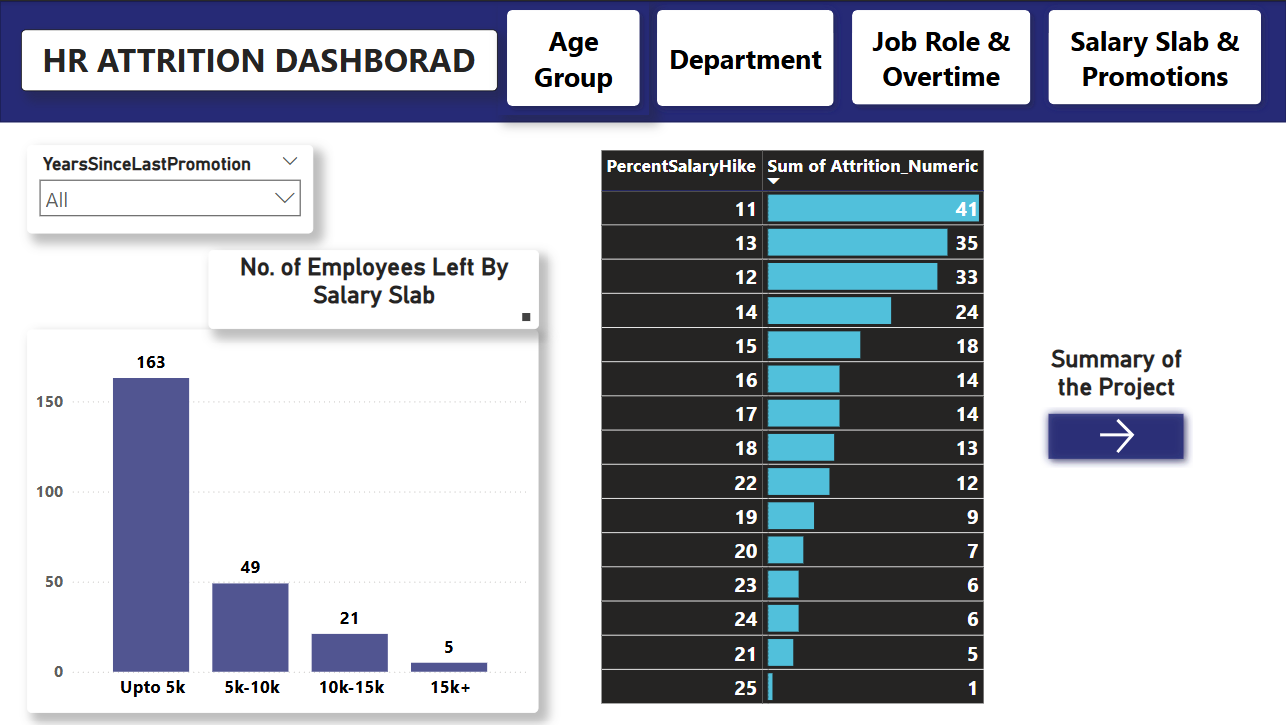

The dashboard page shown, as its layout file describes it:
{"tool":"powerbi","page":{"name":"Salary Slab & Promotions","canvas":[1280,720],"ordinal":3},"visuals":[{"type":"group","id":"g1","title":"Group 1","box":[0,0,1279.4,120.6],"z":0},{"type":"shape","box":[0,0,1279.4,120.6],"z":0,"group":"g1"},{"type":"textbox","title":"HR ATTRITION DASHBOARD","box":[21.2,28.9,473.7,61.6],"z":1000,"group":"g1"},{"type":"clusteredColumnChart","fields":{"Y":["Sum(HR_Attrition.Attrition_Numeric)"],"Category":["HR_Attrition.SalarySlab"]},"box":[27.3,327.1,508.8,381.6],"z":1000},{"type":"actionButton","title":"Age Group","box":[494.9,0,150.2,113.6],"z":2000,"group":"g1"},{"type":"tableEx","fields":{"Values":["HR_Attrition.PercentSalaryHike","Sum(HR_Attrition.Attrition_Numeric)"]},"box":[592.1,143.8,396.7,564.8],"z":2000},{"type":"actionButton","title":"Department & Job Role","box":[645.1,0,193.8,113.6],"z":3000,"group":"g1"},{"type":"slicer","title":"Select the Year","fields":{"Values":["HR_Attrition.YearsSinceLastPromotion"]},"box":[27.3,143.8,284.7,87.8],"z":3000},{"type":"actionButton","title":"Department & Job Role","box":[838.9,0,195.3,112.1],"z":4000,"group":"g1"},{"type":"textbox","title":"No. of Employees Left By Salary Slab","box":[206.8,247.9,328.4,78.9],"z":4000},{"type":"actionButton","title":"Department & Job Role","box":[1034.2,0,229.2,111.7],"z":5000,"group":"g1"},{"type":"actionButton","title":"Summary of the Project","box":[1034.2,342.2,152.9,122.7],"z":5000}]}

Visuals, with their boxes in screenshot pixels (x1, y1, x2, y2), scaled from the page's 1280x720 canvas onto the 1286x725 screenshot:
"Group 1" group: [0,0,1285,121]
shape: [0,0,1285,121]
"HR ATTRITION DASHBOARD" textbox: [21,29,497,91]
clusteredColumnChart - Sum(HR_Attrition.Attrition_Numeric) x HR_Attrition.SalarySlab: [27,329,539,714]
"Age Group" actionButton: [497,0,648,114]
tableEx - HR_Attrition.PercentSalaryHike x Sum(HR_Attrition.Attrition_Numeric): [595,145,993,714]
"Department & Job Role" actionButton: [648,0,843,114]
"Select the Year" slicer: [27,145,313,233]
"Department & Job Role" actionButton: [843,0,1039,113]
"No. of Employees Left By Salary Slab" textbox: [208,250,538,329]
"Department & Job Role" actionButton: [1039,0,1269,112]
"Summary of the Project" actionButton: [1039,345,1193,468]
